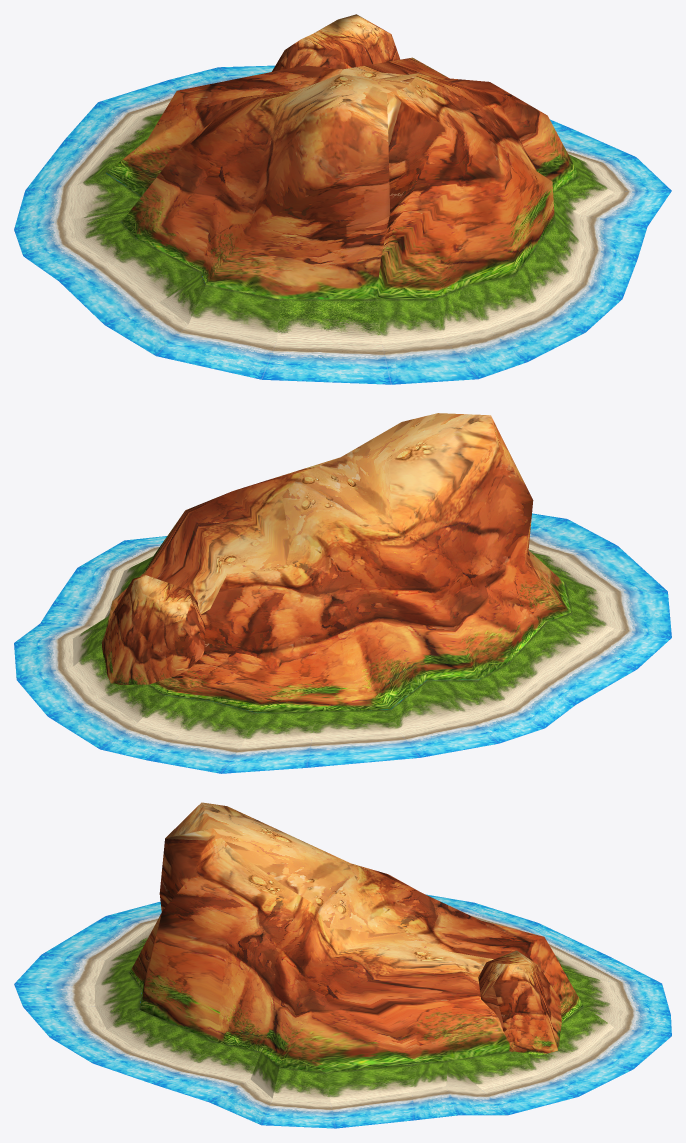
File: bch_island1.fbx
The picture shows the model from 3 angles, top to bottom: view 1: azimuth 30°, elevation 25°; view 2: azimuth 150°, elevation 25°; view 3: azimuth 270°, elevation 25°; orthographic projection. The views are drawn at different scales.
Parts seen in each view (by area): view 1: bch_island1; view 2: bch_island1; view 3: bch_island1.
Boxes of the visible parts, x1,y1,x2,y2 form: bch_island1: (14, 14, 671, 384); bch_island1: (14, 413, 671, 773); bch_island1: (14, 802, 671, 1128).
Bounding box in the file's own units: 11041 × 3691 × 12886.
